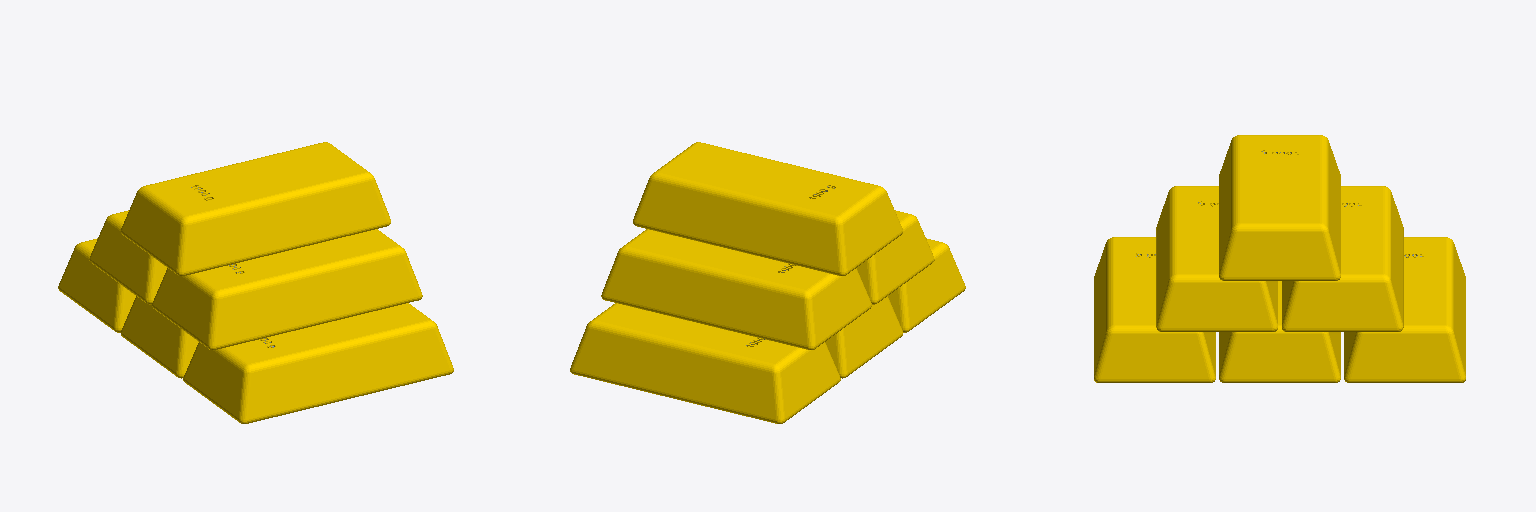
Rendered from goldbar.obj.
3 renders of one model, left to right at view 1: azimuth 30°, elevation 25°; view 2: azimuth 150°, elevation 25°; view 3: azimuth 270°, elevation 25°, orthographic.
Parts seen in each view (by area): view 1: Diferença.038_ID319, Diferença.064_ID529, Diferença.025_ID214, Diferença.051_ID424, Diferença.077_ID634, Diferença.012_ID109; view 2: Diferença.038_ID319, Diferença.077_ID634, Diferença.051_ID424, Diferença.025_ID214, Diferença.064_ID529, Diferença.012_ID109; view 3: Diferença.038_ID319, Diferença.025_ID214, Diferença.051_ID424, Diferença.064_ID529, Diferença.077_ID634, Diferença.012_ID109.
Boxes of the visible parts, box(x1,y1,x2,y2) form: Diferença.038_ID319: box(121, 142, 390, 275); Diferença.064_ID529: box(183, 303, 453, 423); Diferença.025_ID214: box(152, 229, 422, 349); Diferença.051_ID424: box(89, 210, 166, 304); Diferença.077_ID634: box(58, 238, 135, 332); Diferença.012_ID109: box(121, 296, 198, 378); Diferença.038_ID319: box(633, 142, 902, 275); Diferença.077_ID634: box(570, 303, 840, 423); Diferença.051_ID424: box(601, 229, 871, 349); Diferença.025_ID214: box(857, 210, 934, 304); Diferença.064_ID529: box(888, 238, 965, 332); Diferença.012_ID109: box(825, 296, 902, 378); Diferença.038_ID319: box(1219, 135, 1340, 280); Diferença.025_ID214: box(1156, 186, 1277, 331); Diferença.051_ID424: box(1282, 186, 1403, 331); Diferença.064_ID529: box(1094, 237, 1215, 382); Diferença.077_ID634: box(1344, 237, 1465, 382); Diferença.012_ID109: box(1219, 281, 1340, 382).
Size of the model in its own units: 3.93 by 2.69 by 5.92.